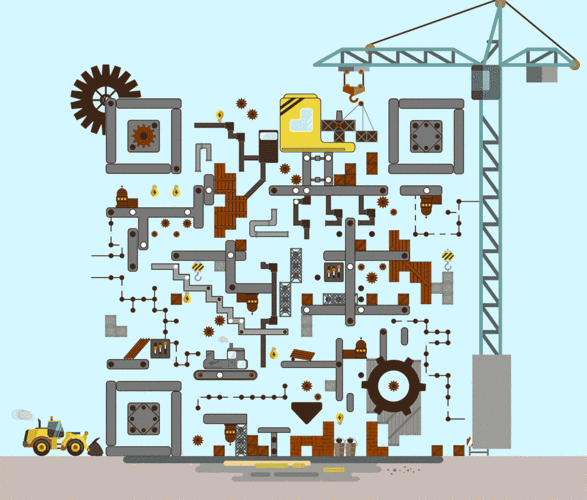QRCode: (99, 94, 475, 468)
